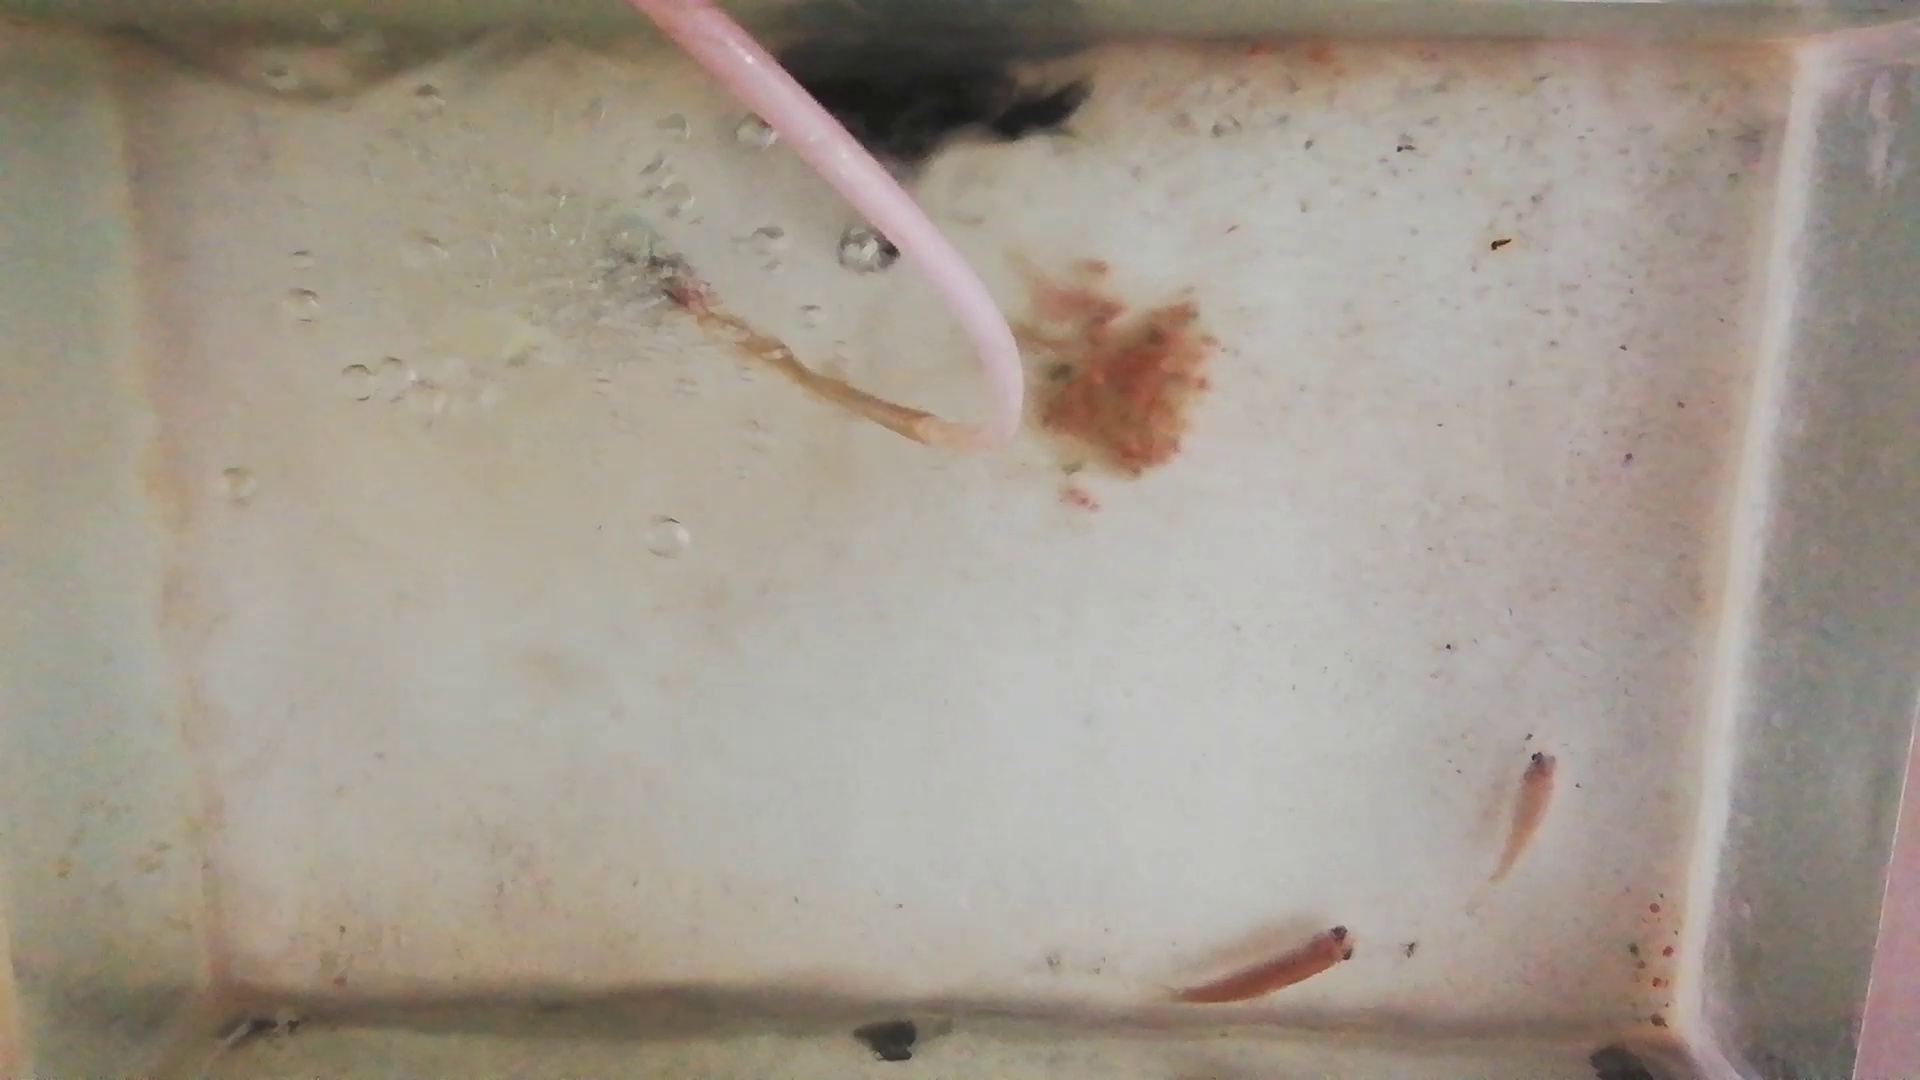fish: (1170, 927, 1362, 1004), (1490, 746, 1557, 887)
